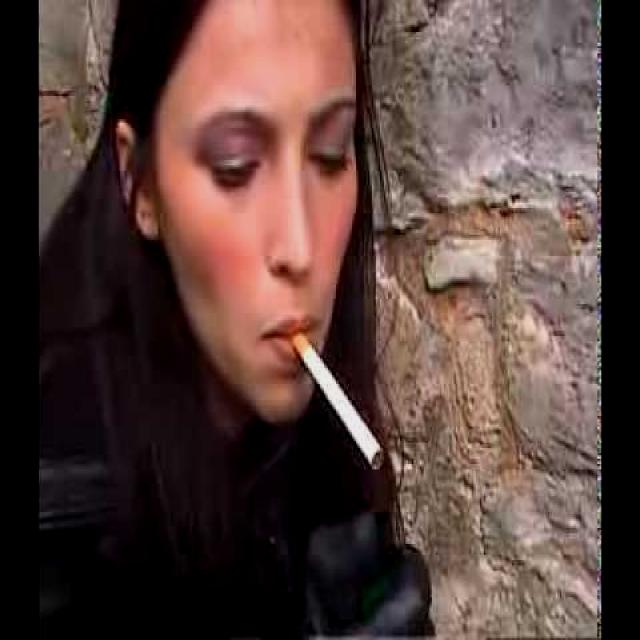Smooking: (296, 316, 391, 520)
